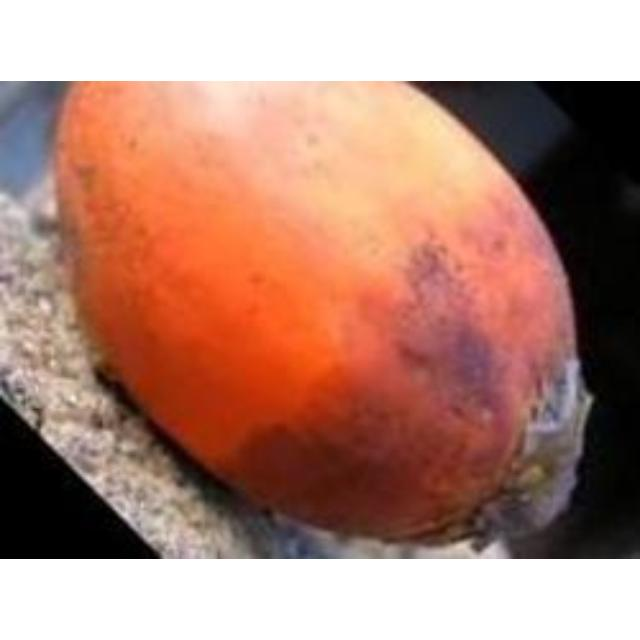good: (49, 81, 596, 537)
